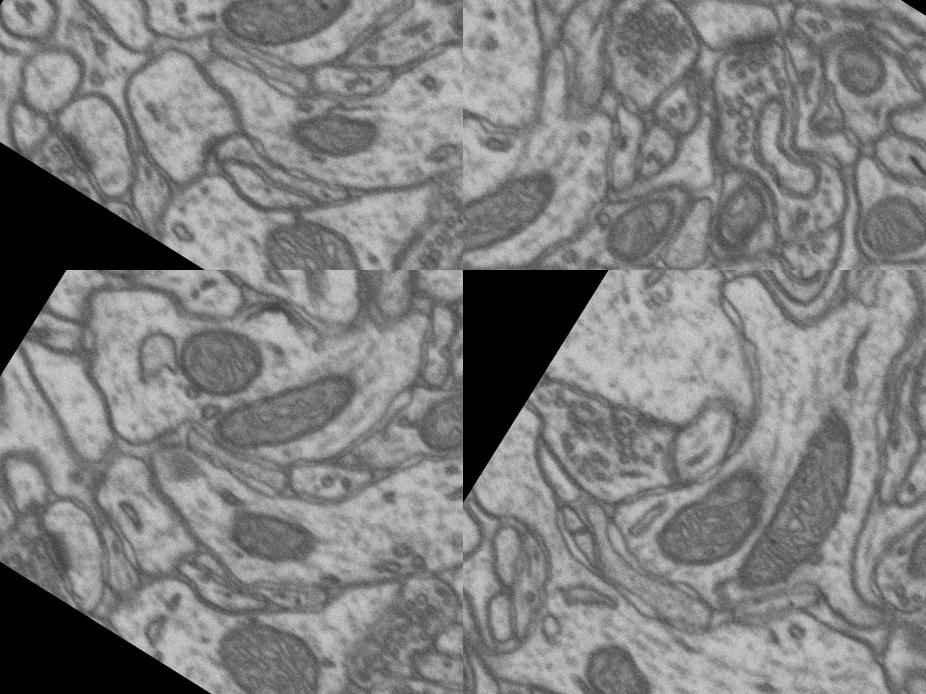mitochondria: (714, 396, 894, 617), (204, 320, 376, 498), (642, 436, 788, 595), (463, 118, 576, 270), (156, 300, 283, 423), (205, 0, 367, 91), (195, 596, 342, 694), (277, 79, 399, 191), (211, 480, 333, 592), (238, 189, 385, 270), (593, 169, 696, 270), (692, 165, 790, 268), (810, 16, 908, 114), (842, 175, 926, 270), (571, 629, 669, 694), (402, 371, 463, 472), (887, 487, 926, 605), (463, 628, 514, 694), (437, 0, 463, 53)
